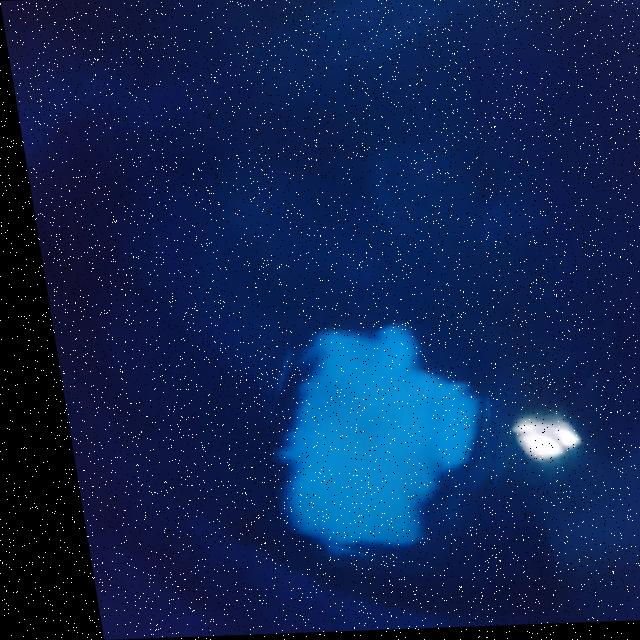thermocoal: (235, 299, 502, 570)
